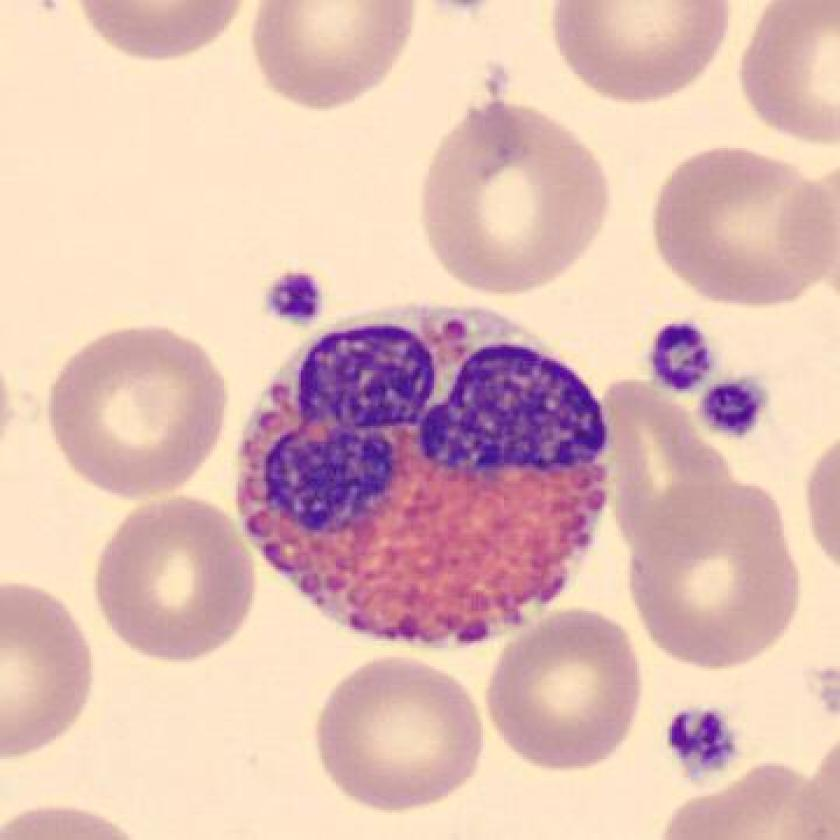eosinophil: (230, 288, 629, 667)
